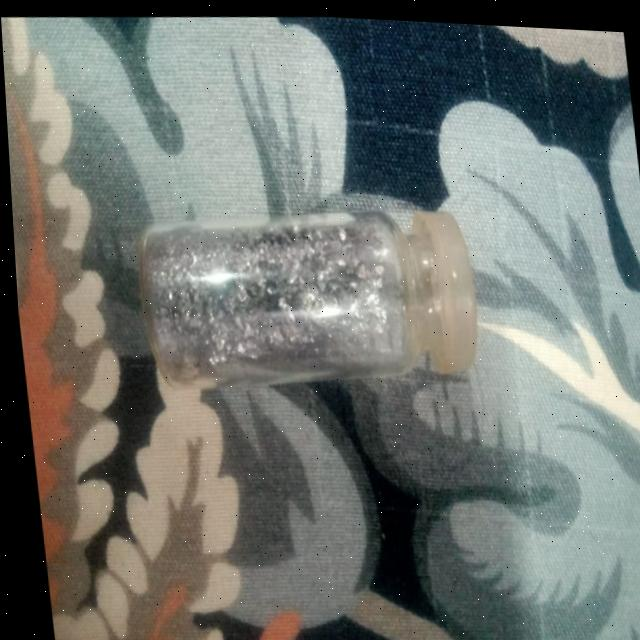highlighter: (95, 185, 490, 391)
